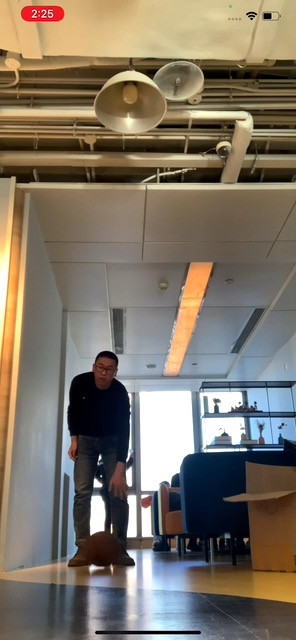ball: (83, 531, 123, 567)
